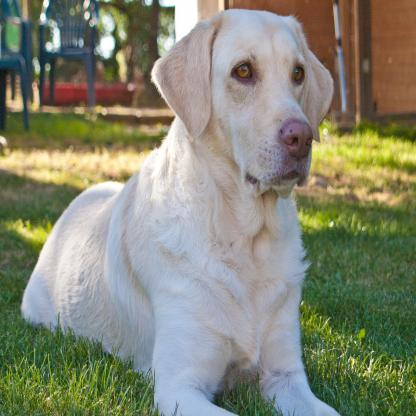Rotveler: (22, 6, 346, 416)
